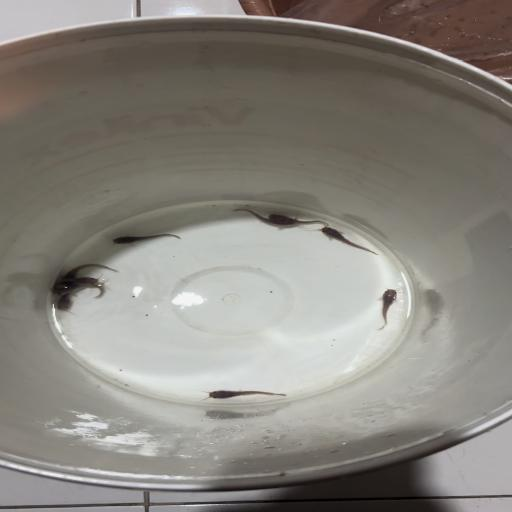lele: (314, 225, 378, 256), (226, 206, 299, 228), (191, 387, 290, 403), (108, 230, 183, 247), (375, 285, 399, 331), (57, 263, 119, 279), (265, 213, 330, 227), (50, 284, 110, 298), (50, 276, 106, 285), (52, 294, 79, 312)
